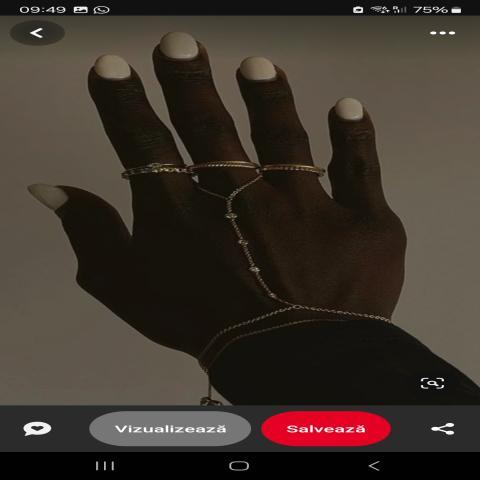Hands: (32, 25, 436, 356)
